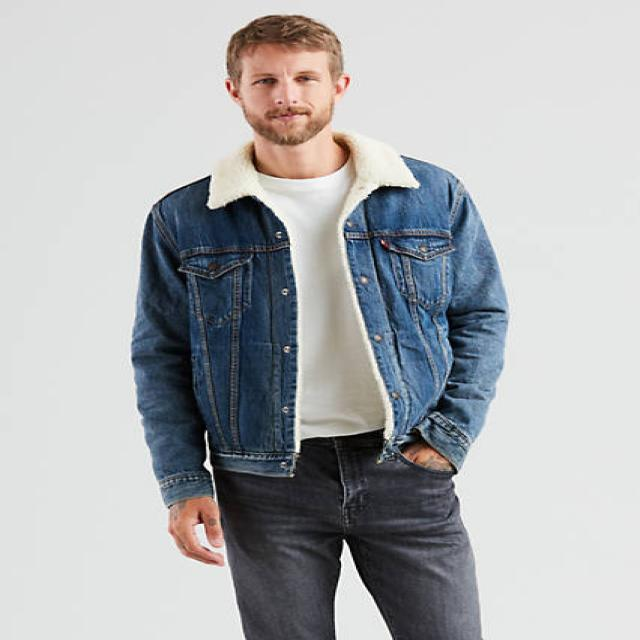mobile_phonerotation: (129, 13, 511, 638)
